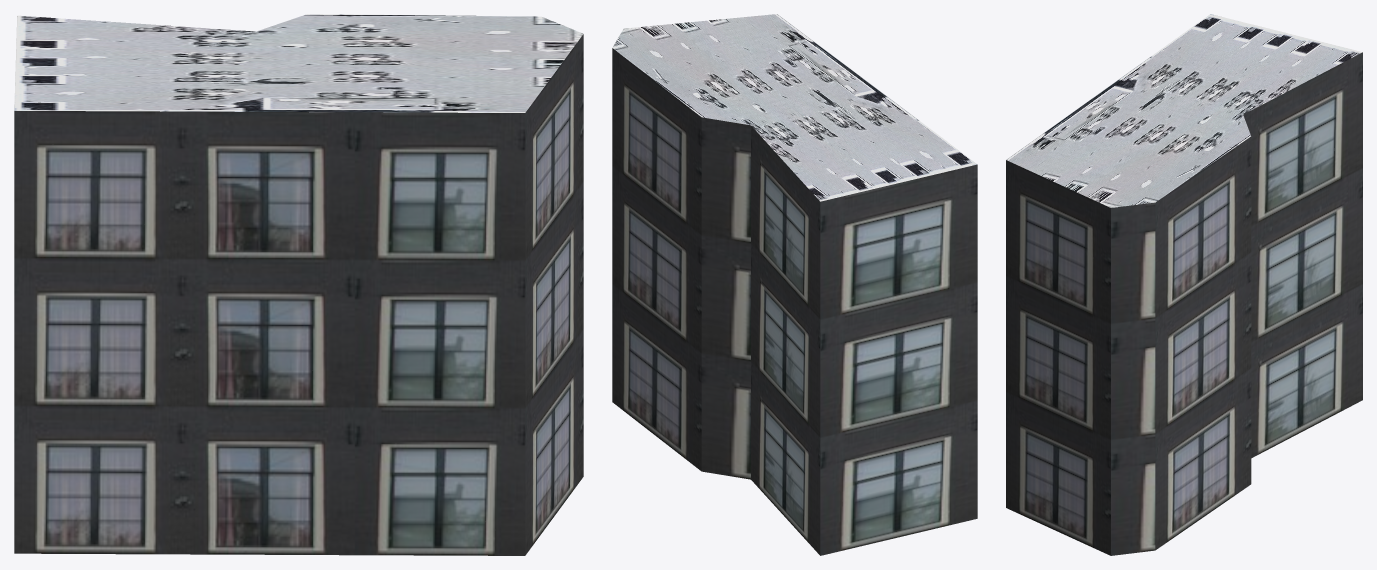
Rendered from ResTex__5099.fbx.
The picture shows the model from 3 angles, left to right: view 1: azimuth 30°, elevation 25°; view 2: azimuth 150°, elevation 25°; view 3: azimuth 270°, elevation 25°; orthographic projection. The views are drawn at different scales.
Parts seen in each view (by area): view 1: CityEngineMaterial_22_m, CityEngineMaterial_4_m; view 2: CityEngineMaterial_22_m, CityEngineMaterial_4_m; view 3: CityEngineMaterial_22_m, CityEngineMaterial_4_m.
Part boxes in pixels (x1,y1,x2,y2): CityEngineMaterial_22_m: [14, 34, 583, 555]; CityEngineMaterial_4_m: [14, 14, 583, 112]; CityEngineMaterial_22_m: [612, 48, 977, 555]; CityEngineMaterial_4_m: [612, 14, 977, 201]; CityEngineMaterial_22_m: [1006, 52, 1362, 555]; CityEngineMaterial_4_m: [1006, 14, 1362, 207].
Size of the model in its own units: 10.76 by 9 by 8.36.
Materials: 2 (2 with a texture image).
